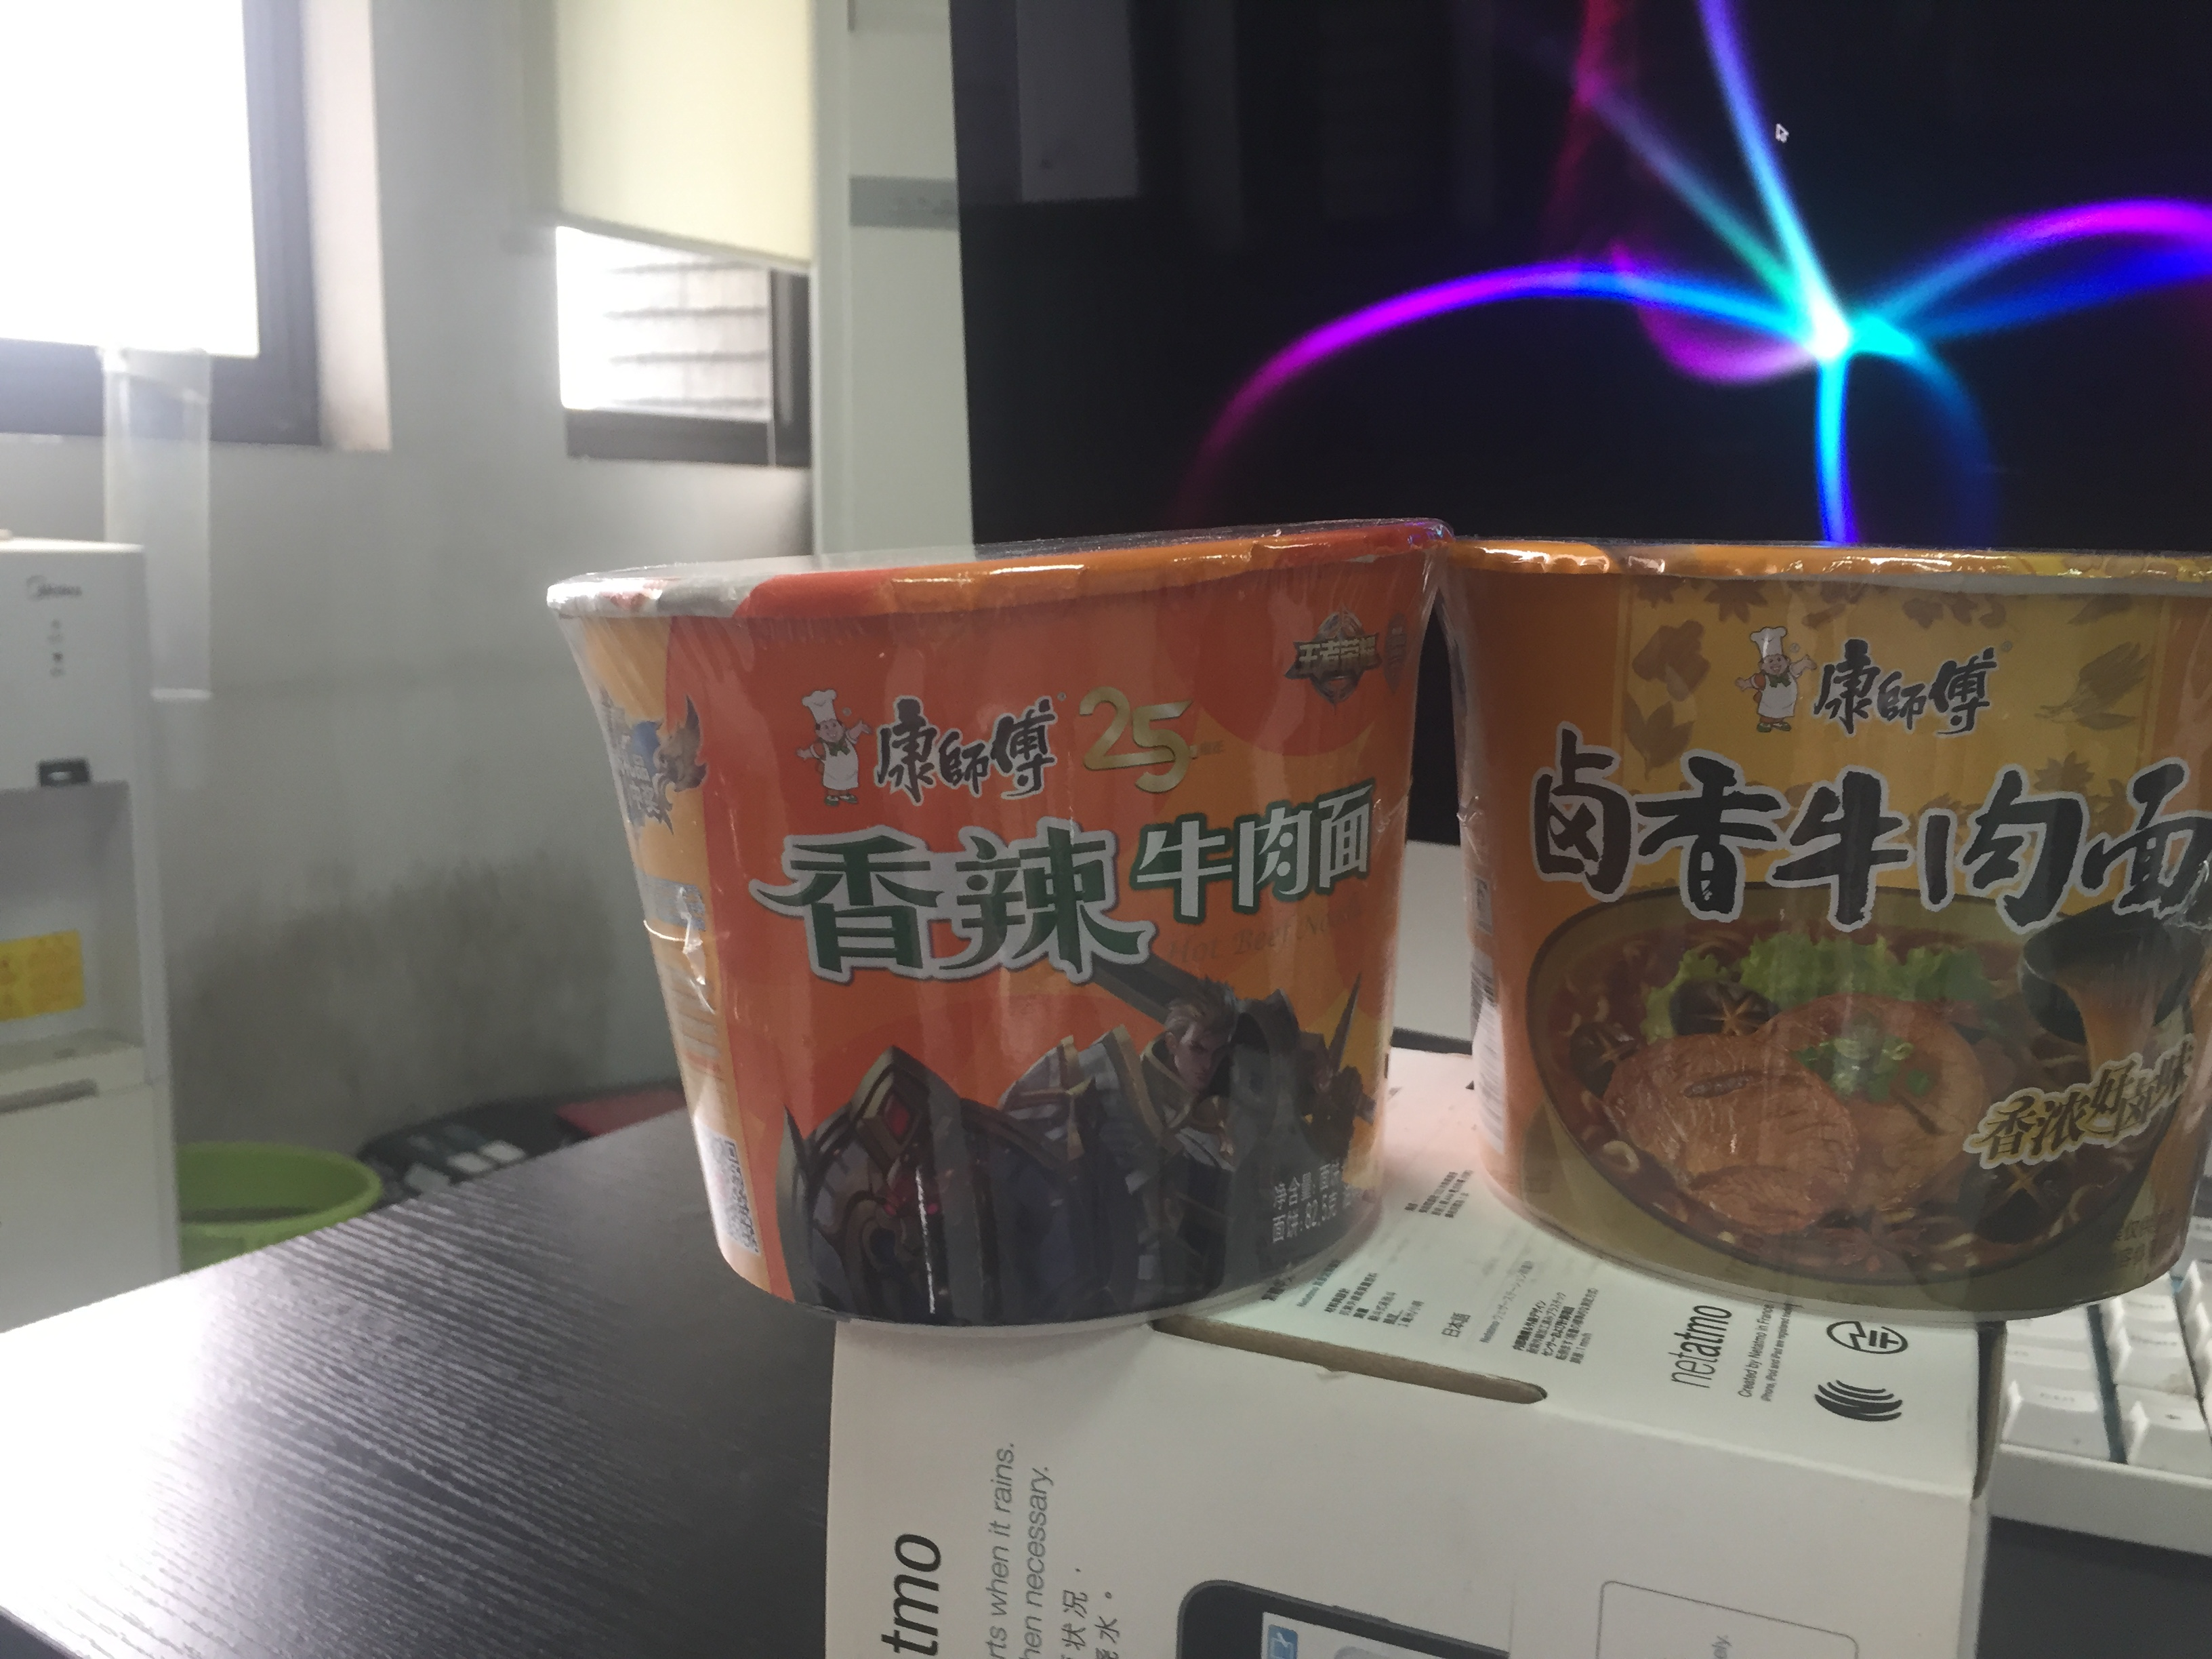luxiang: (1437, 537, 2212, 1331)
xiangla: (547, 516, 1449, 1342)
